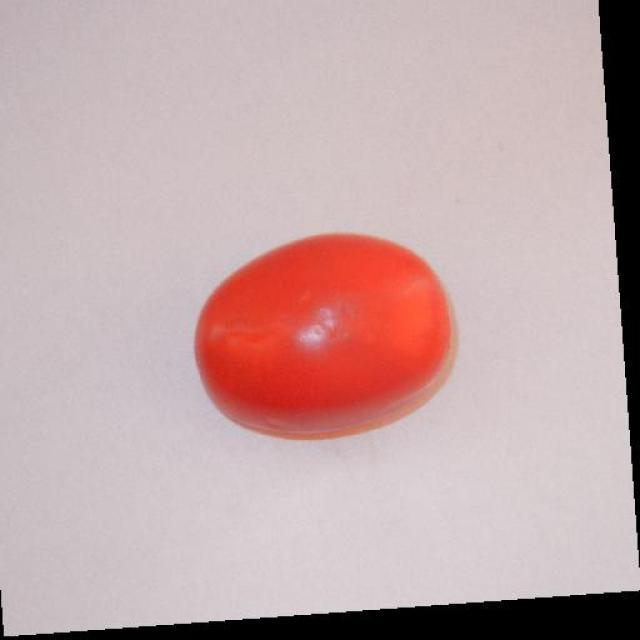Fresh Tomato: (184, 228, 466, 452)
